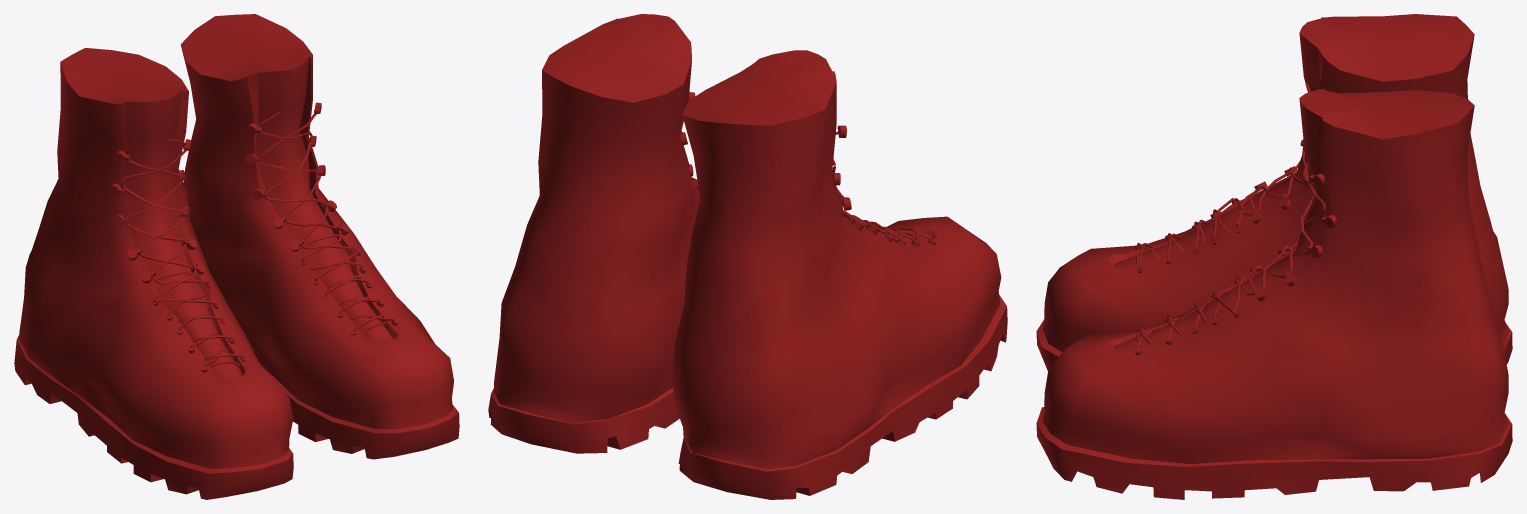
The model's file is W_USCM_Boots.FBX.
3 renders of one model, left to right at view 1: azimuth 30°, elevation 25°; view 2: azimuth 150°, elevation 25°; view 3: azimuth 270°, elevation 25°, orthographic. The views are drawn at different scales.
Parts seen in each view (by area): view 1: Object049; view 2: Object049; view 3: Object049.
Part boxes in pixels (bbox=[...]): Object049: bbox=[14, 14, 459, 499]; Object049: bbox=[488, 14, 1007, 499]; Object049: bbox=[1036, 14, 1512, 499].
Size of the model in its own units: 16.88 by 17.35 by 21.12.
